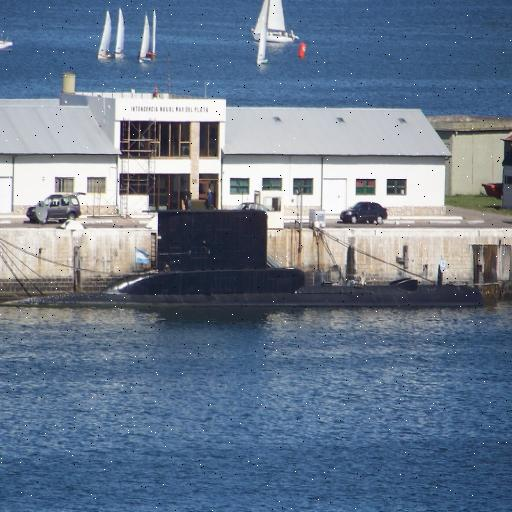submarine: (1, 195, 512, 309)
